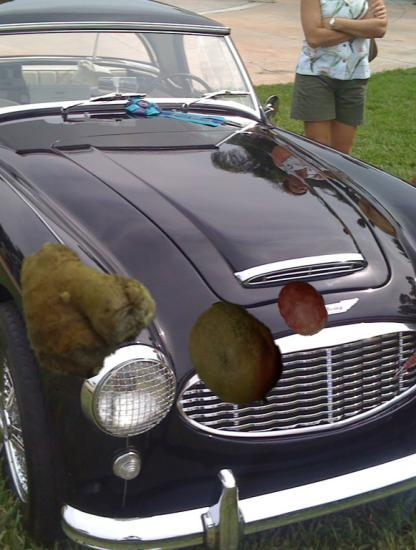Ginger: (13, 233, 156, 376)
Grape: (274, 279, 332, 337)
Papaya: (180, 299, 292, 411)
